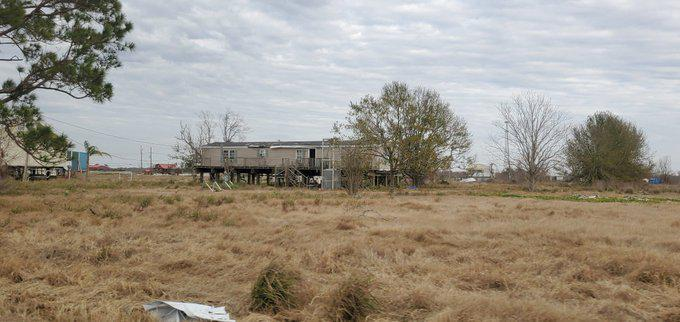minor: (190, 134, 428, 195)
